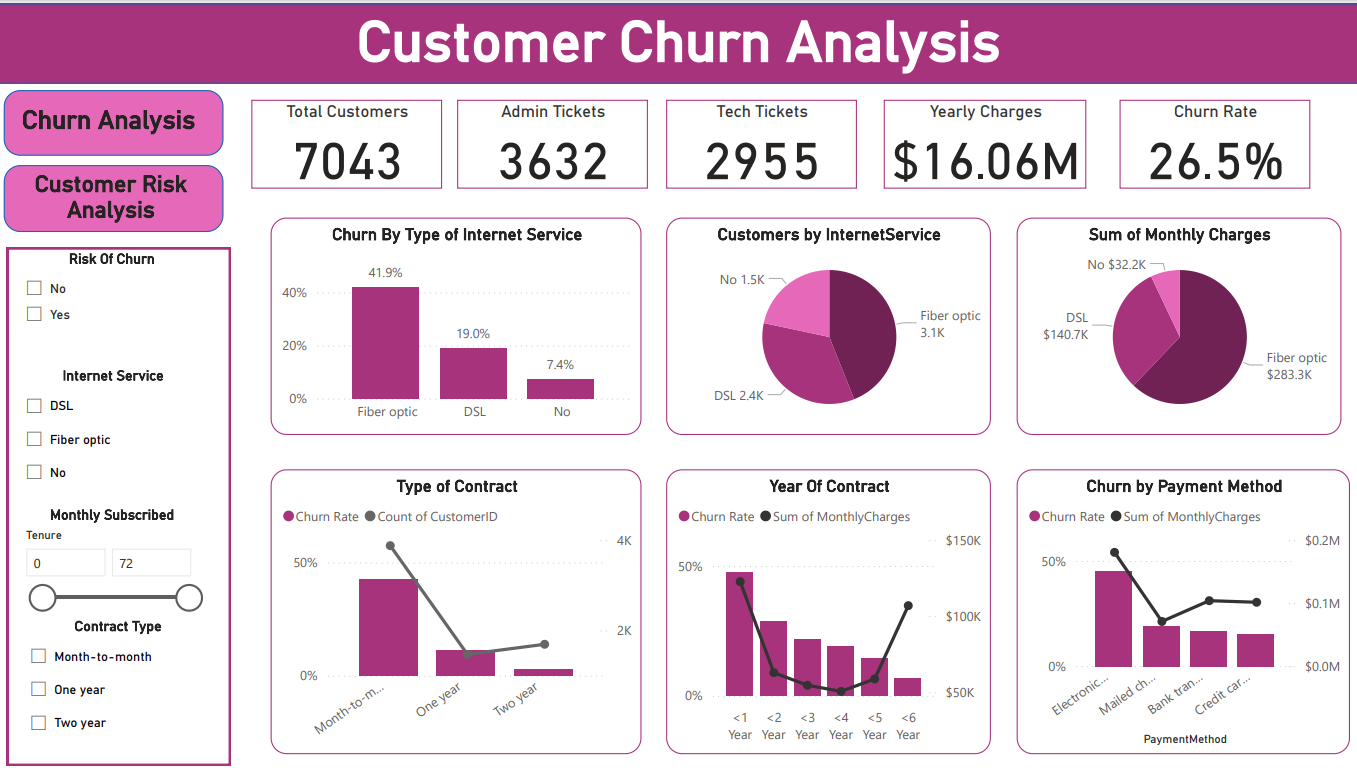

This screenshot's page, from the dashboard's own definition file:
{"tool":"powerbi","page":{"name":"Page 1","canvas":[1280,720],"ordinal":0},"visuals":[{"type":"shape","box":[0,0,1280,75.1],"z":0},{"type":"textbox","box":[0,0,1280,75.1],"z":1000},{"type":"clusteredColumnChart","title":"Churn By Type of Internet Service","fields":{"Category":["Churn-Dataset.InternetService"],"Y":["Churn-Dataset.Churn Rate"]},"box":[258.8,200,346.2,202.5],"z":2000},{"type":"lineClusteredColumnComboChart","title":"Type of Contract","fields":{"Category":["Churn-Dataset.Contract"],"Y":["Churn-Dataset.Churn Rate"],"Y2":["CountNonNull(Churn-Dataset.Churn)"]},"box":[258.8,435,346.2,266.2],"z":3000},{"type":"lineClusteredColumnComboChart","title":"Churn by Payment Method","fields":{"Category":["Churn-Dataset.PaymentMethod"],"Y":["Churn-Dataset.Churn Rate"],"Y2":["Sum(Churn-Dataset.MonthlyCharges)"]},"box":[955,435,311.2,266.2],"z":4000},{"type":"pieChart","title":"Customers by InternetService","fields":{"Y":["Churn-Dataset.Total Customers"],"Category":["Churn-Dataset.InternetService"]},"box":[627.5,200,302.5,202.5],"z":5000},{"type":"pieChart","title":"Sum of Monthly Charges","fields":{"Category":["Churn-Dataset.InternetService"],"Y":["Sum(Churn-Dataset.MonthlyCharges)"]},"box":[955,200,302.5,202.5],"z":6000},{"type":"shape","box":[10,81.2,205,61.2],"z":7000},{"type":"textbox","box":[17.5,90,180,45],"z":8000},{"type":"shape","box":[10,151.2,205,62.5],"z":9000},{"type":"textbox","box":[10,151.2,200,62.5],"z":10000},{"type":"lineStackedColumnComboChart","title":"Year Of Contract","fields":{"Category":["Churn-Dataset.Tenure(In Years)"],"Y":["Churn-Dataset.Churn Rate"],"Y2":["Sum(Churn-Dataset.MonthlyCharges)"]},"box":[628,435,303,266],"z":11000},{"type":"card","title":"Total Customers","fields":{"Values":["Count(01 Churn-Dataset.customerID)"]},"box":[241.2,90,177.5,82.5],"z":12000},{"type":"card","title":"Admin Tickets","fields":{"Values":["Sum(Churn-Dataset.numAdminTickets)"]},"box":[432.5,90,177.5,82.5],"z":13000},{"type":"card","title":"Tech Tickets","fields":{"Values":["Sum(Churn-Dataset.numTechTickets)"]},"box":[627.5,90,177.5,82.5],"z":14000},{"type":"card","title":"Yearly Charges","fields":{"Values":["Sum(Churn-Dataset.TotalCharges)"]},"box":[831.2,90,188.8,82.5],"z":15000},{"type":"card","title":"Churn Rate","fields":{"Values":["Churn-Dataset.Churn Rate"]},"box":[1051.2,90,177.5,82.5],"z":16000},{"type":"shape","box":[12.5,227.5,208.8,483.8],"z":17000},{"type":"slicer","title":"Contract Type","fields":{"Values":["Churn-Dataset.Contract"]},"box":[22.5,573.8,187.5,127.5],"z":18000},{"type":"slicer","title":"Monthly Subscribed","fields":{"Values":["Churn-Dataset.Tenure"]},"box":[17.5,470,186.2,103.8],"z":19000},{"type":"slicer","title":"Internet Service","fields":{"Values":["Churn-Dataset.InternetService"]},"box":[18.8,340,186.2,120],"z":20000},{"type":"slicer","title":"Risk Of Churn","fields":{"Values":["Churn-Dataset.Churn"]},"box":[18.8,231.2,183.8,92.5],"z":21000},{"type":"actionButton","box":[17.5,90,180,40],"z":21001},{"type":"actionButton","box":[16.2,152.5,193.8,61.2],"z":21002}]}

Visuals, with their boxes in screenshot pixels (x1, y1, x2, y2), scaled from the page's 1280x720 canvas onto the 1357x776 screenshot:
shape: 0, 0, 1356, 81
textbox: 0, 0, 1356, 81
"Churn By Type of Internet Service" clusteredColumnChart: 274, 216, 641, 434
"Type of Contract" lineClusteredColumnComboChart: 274, 469, 641, 756
"Churn by Payment Method" lineClusteredColumnComboChart: 1012, 469, 1342, 756
"Customers by InternetService" pieChart: 665, 216, 986, 434
"Sum of Monthly Charges" pieChart: 1012, 216, 1333, 434
shape: 11, 88, 228, 153
textbox: 19, 97, 209, 146
shape: 11, 163, 228, 230
textbox: 11, 163, 223, 230
"Year Of Contract" lineStackedColumnComboChart: 666, 469, 987, 756
"Total Customers" card: 256, 97, 444, 186
"Admin Tickets" card: 459, 97, 647, 186
"Tech Tickets" card: 665, 97, 853, 186
"Yearly Charges" card: 881, 97, 1081, 186
"Churn Rate" card: 1114, 97, 1303, 186
shape: 13, 245, 235, 767
"Contract Type" slicer: 24, 618, 223, 756
"Monthly Subscribed" slicer: 19, 507, 216, 618
"Internet Service" slicer: 20, 366, 217, 496
"Risk Of Churn" slicer: 20, 249, 215, 349
actionButton: 19, 97, 209, 140
actionButton: 17, 164, 223, 230
